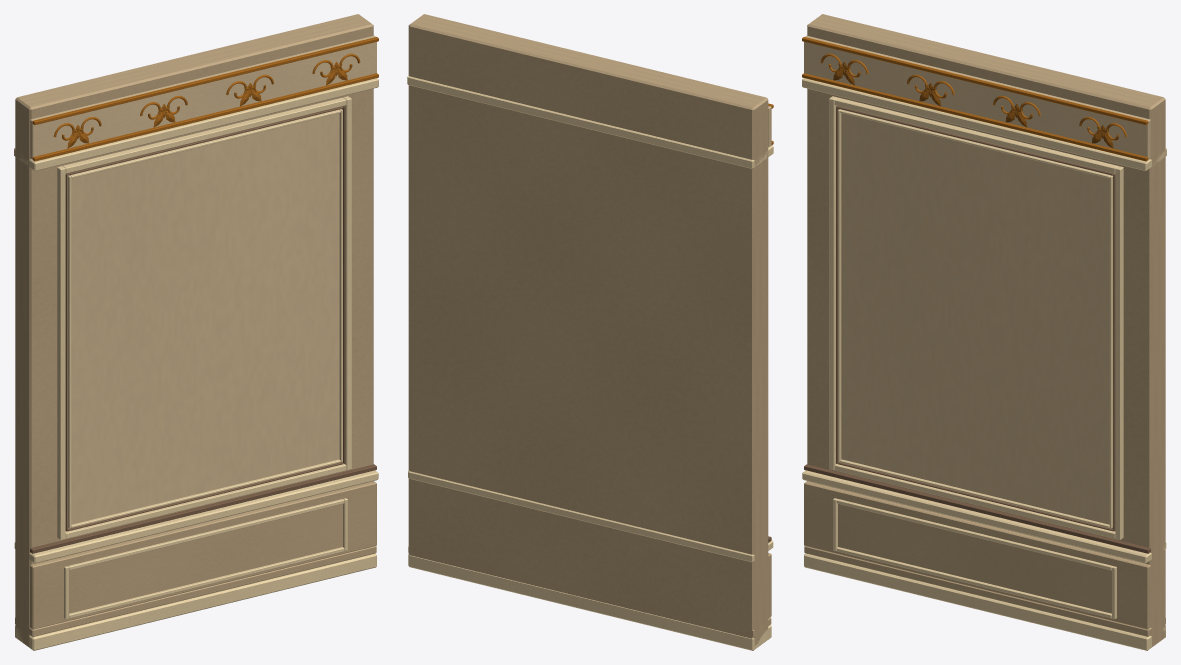
The model's file is PMU_Mur_Panneau_16.glb.
The picture shows the model from 3 angles, left to right: view 1: azimuth 30°, elevation 25°; view 2: azimuth 150°, elevation 25°; view 3: azimuth 330°, elevation 25°; orthographic projection.
Visible parts, largest first — view 1: PMU_Mur_Panneau_16; view 2: PMU_Mur_Panneau_16; view 3: PMU_Mur_Panneau_16.
Boxes of the visible parts, x1,y1,x2,y2 form: PMU_Mur_Panneau_16: (14,14,378,650); PMU_Mur_Panneau_16: (407,14,773,650); PMU_Mur_Panneau_16: (802,14,1166,650).
Size of the model in its own units: 16 by 24 by 1.8.
1 material, 1 textured.
